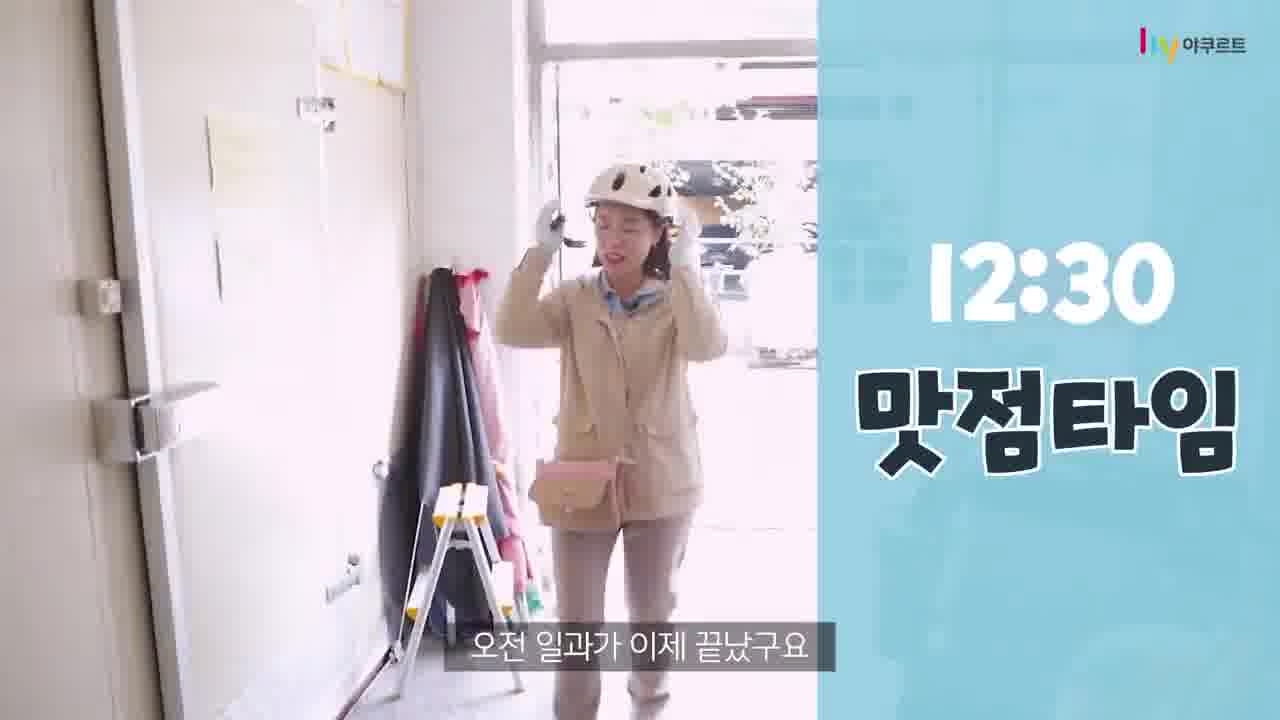Yakurut: (481, 152, 776, 720)
